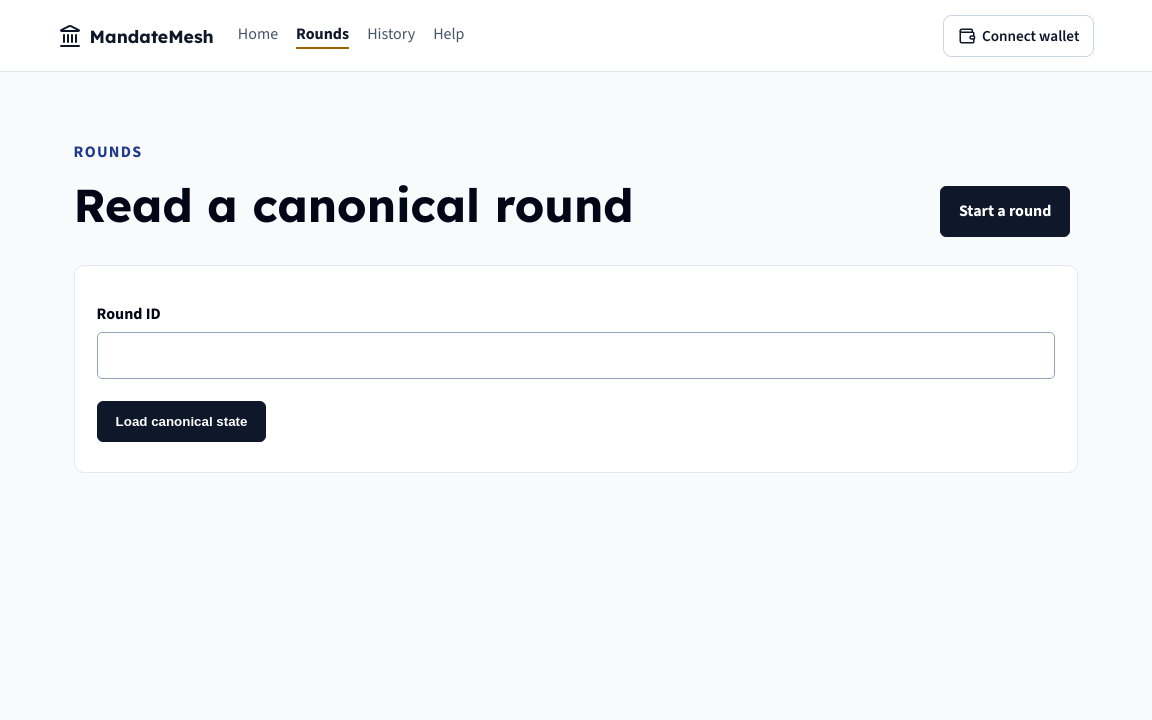
Test case: MandateMesh product shell › renders canonical round data as a human-readable card instead of raw JSON
The width and height of the screenshot is (1152, 720).
Type "round-1" into the field labelled "Round ID" at (576, 355), box [97,332,1055,379]
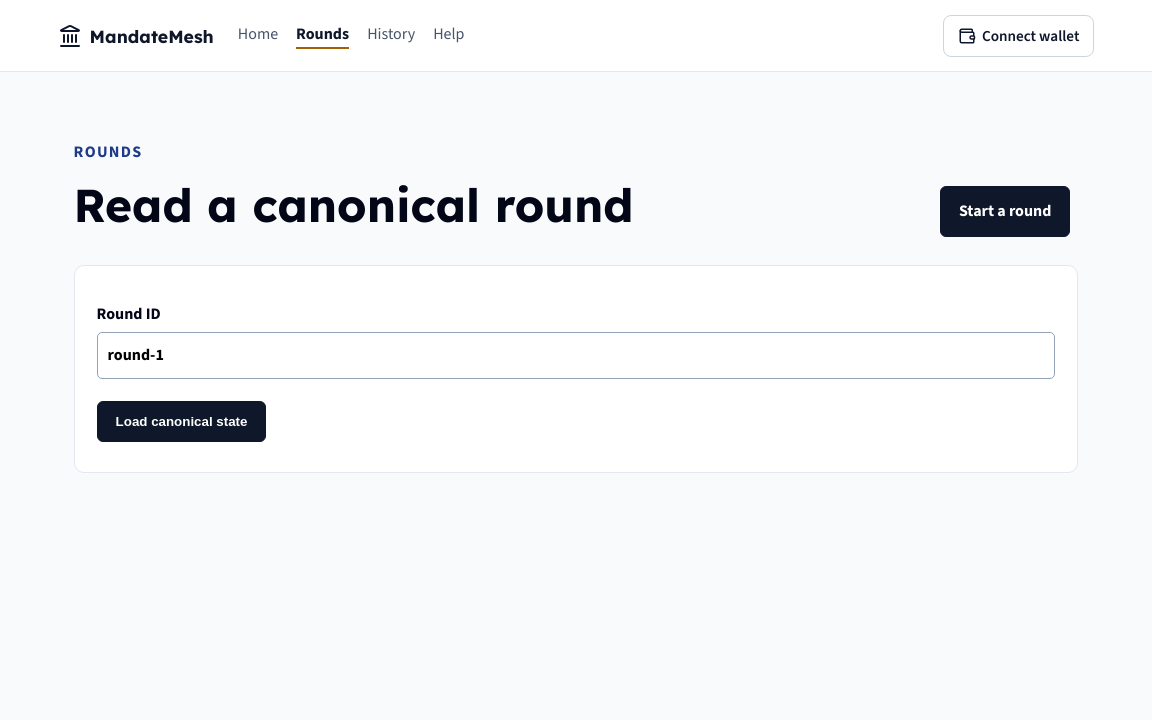
Click the button "Load canonical state" at (182, 421), box [97,401,266,442]
(page scrolled)
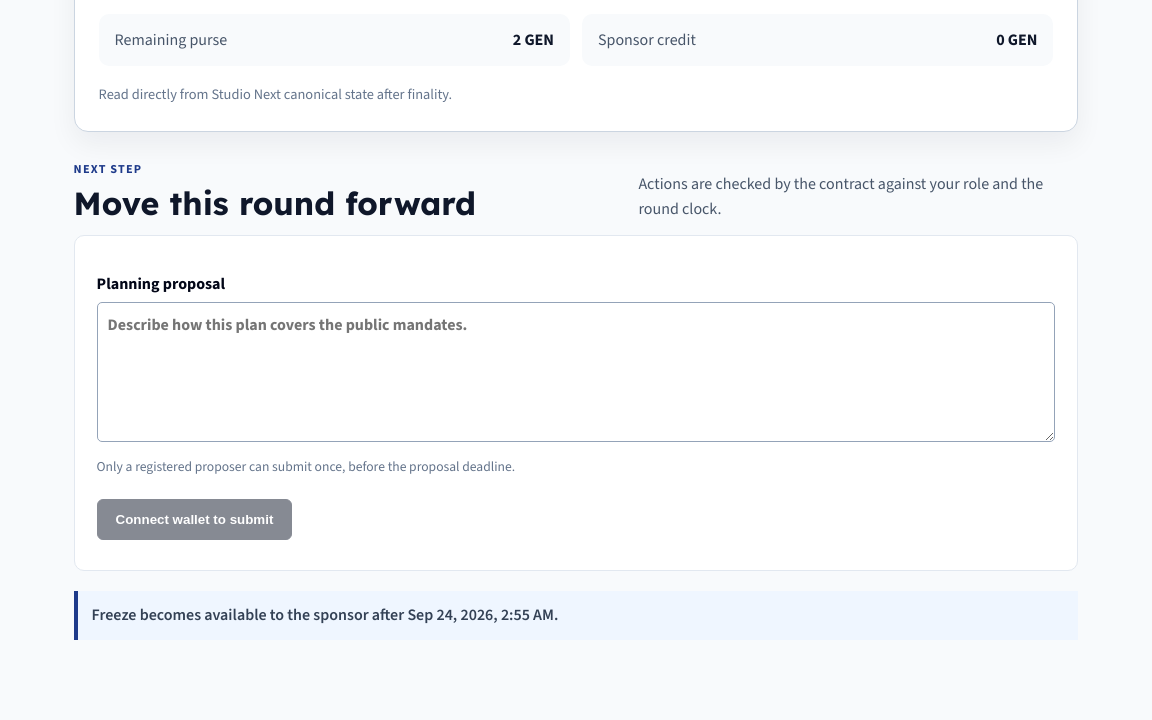
Check: the text "2 GEN" is shown, box [513,29,554,50]
Check: the text box labelled "Planning proposal" is shown, box [97,302,1055,442]
Check: the button "Connect wallet to submit" is disabled, box [97,499,292,540]
